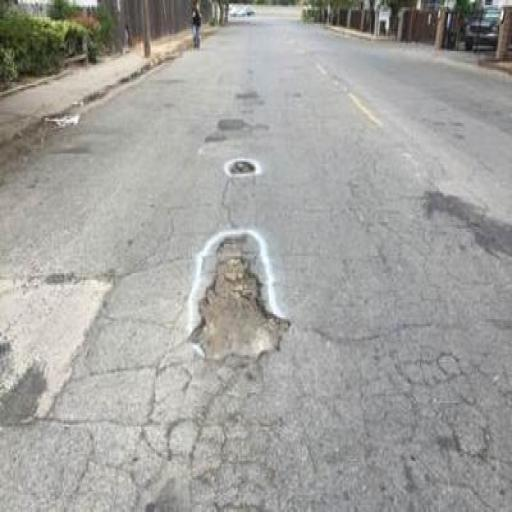pothole: (188, 232, 287, 362), (227, 155, 256, 176)
